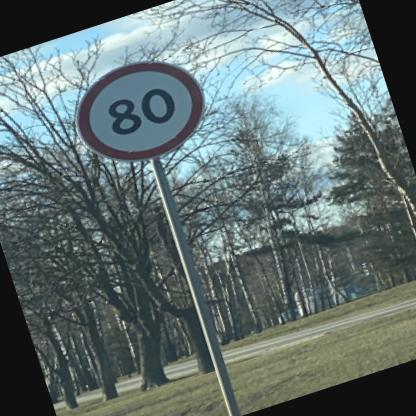speedlimit: (60, 43, 216, 178)
